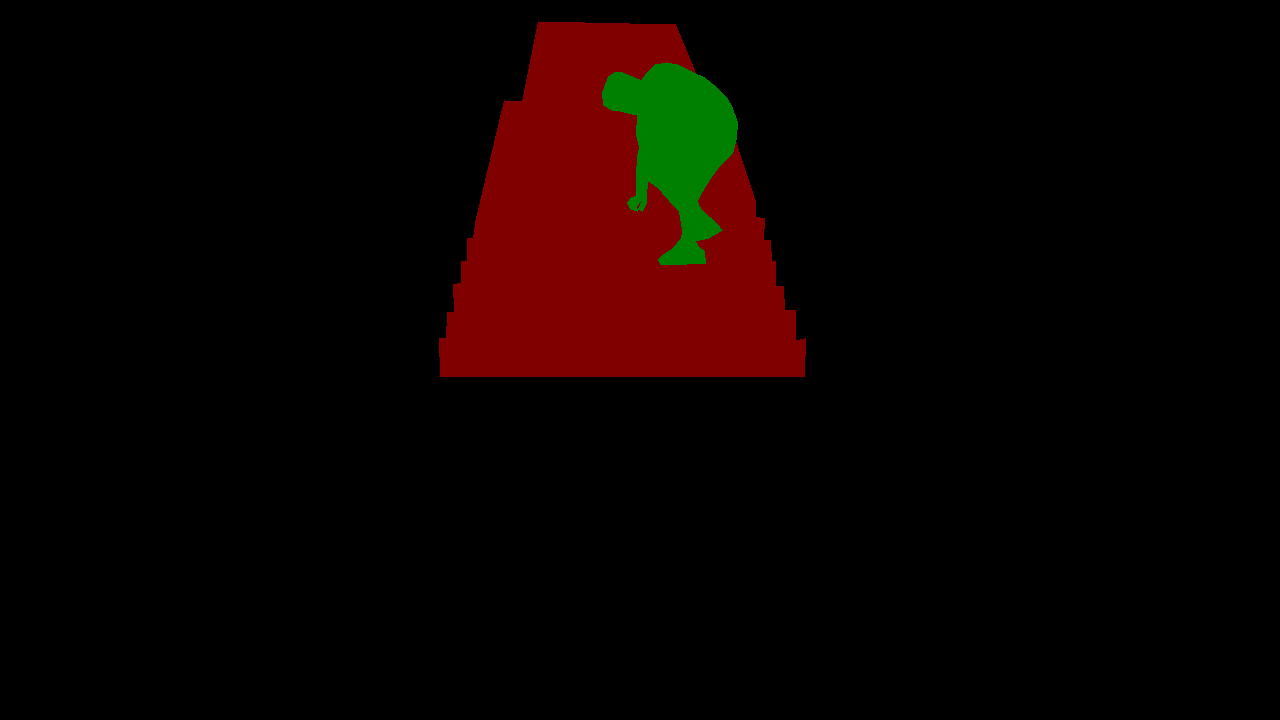person: (602, 62, 737, 264)
stair: (439, 21, 805, 376)
